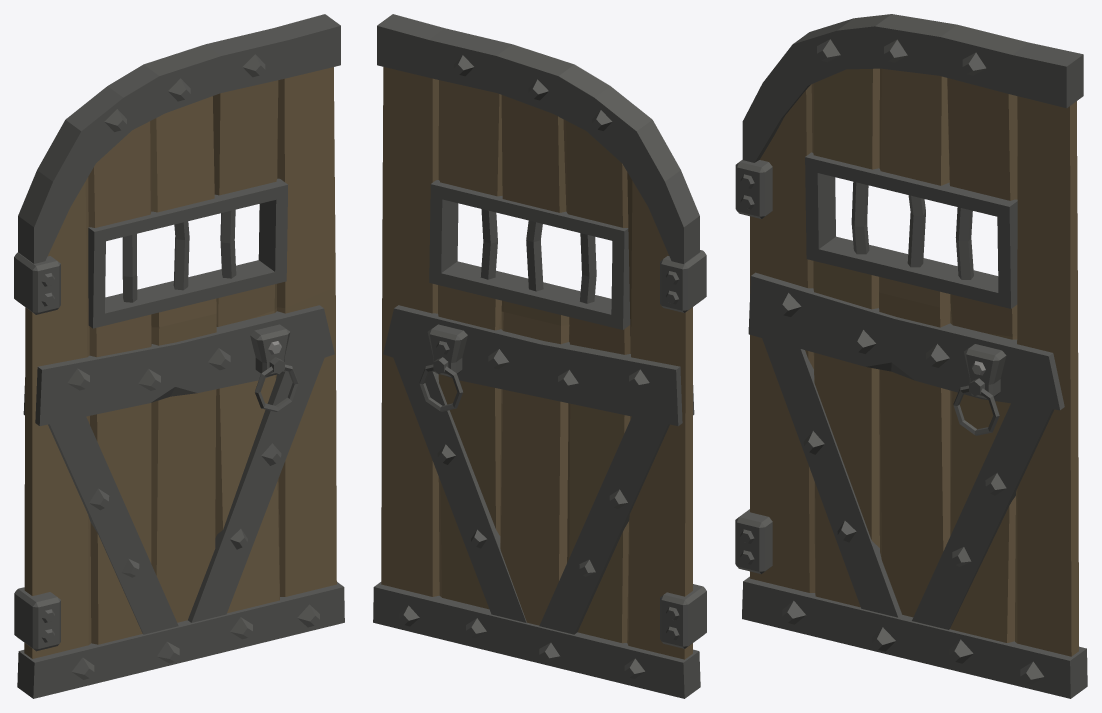
Rendered from rpgpp_ag_door_gate_01_left.fbx.
3 renders of one model, left to right at view 1: azimuth 30°, elevation 25°; view 2: azimuth 150°, elevation 25°; view 3: azimuth 330°, elevation 25°, orthographic. The views are drawn at different scales.
Visible parts, largest first — view 1: rpgpp_ag_door_gate_01_left; view 2: rpgpp_ag_door_gate_01_left; view 3: rpgpp_ag_door_gate_01_left.
Part boxes in pixels (bbox=[...]): rpgpp_ag_door_gate_01_left: bbox=[14, 14, 344, 698]; rpgpp_ag_door_gate_01_left: bbox=[373, 14, 706, 698]; rpgpp_ag_door_gate_01_left: bbox=[735, 14, 1087, 698].
Bounding box in the file's own units: 2.04 × 3.7 × 0.4666.
